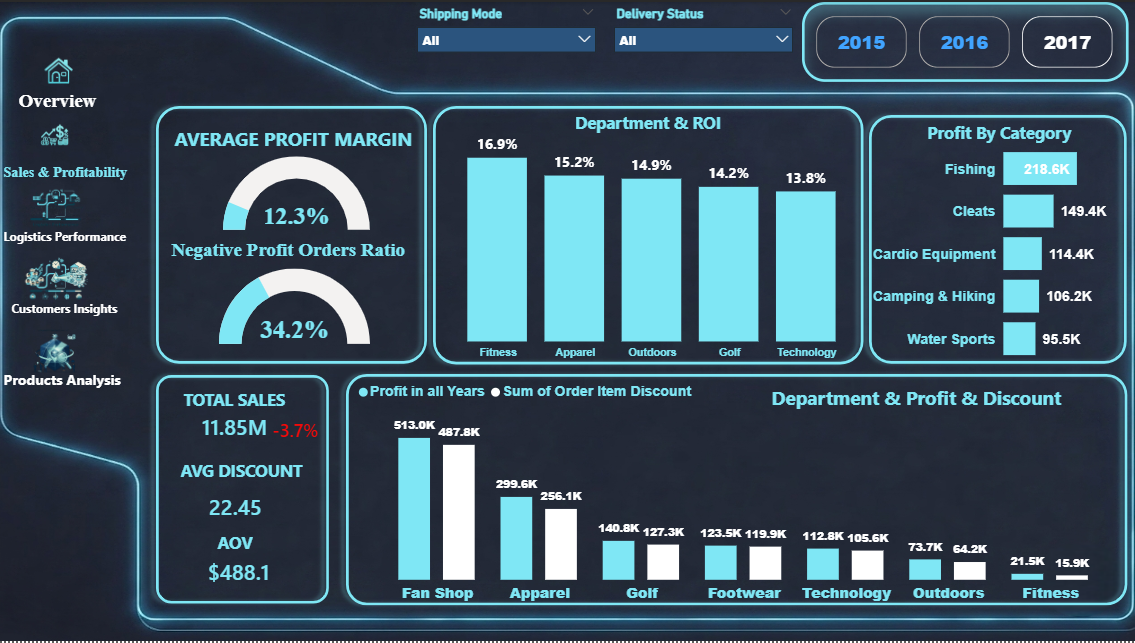

The page's visual inventory and layout, read from the dashboard file:
{"tool":"powerbi","page":{"name":"Sales & Profitability","canvas":[1280,720],"ordinal":1},"visuals":[{"type":"image","box":[0,0,1280,720],"z":0},{"type":"shape","box":[20.5,42.1,138.9,50],"z":1000},{"type":"textbox","box":[17.2,94.6,112.3,41.5],"z":1000,"group":"g2"},{"type":"shape","box":[168.4,108.3,323.3,308.3],"z":2000,"group":"g4"},{"type":"shape","box":[971.7,118.3,308.3,298.3],"z":2000},{"type":"textbox","box":[0,178.5,173.3,43.3],"z":2000,"group":"g6"},{"type":"shape","box":[480,107.7,503.1,309.2],"z":3000},{"type":"textbox","box":[0,250.2,155.6,33.3],"z":3000,"group":"g7"},{"type":"textbox","box":[984.6,129.2,284.6,41.5],"z":4000},{"type":"gauge","fields":{"Y":["NewOrderItem.Loss Order Profit Ratio"]},"box":[183.6,295,298.4,95.1],"z":5000,"group":"g4"},{"type":"textbox","box":[9,331.1,144.4,34.4],"z":5000,"group":"g8"},{"type":"group","id":"g1","title":"Group 4","box":[382,409.8,898.4,278.7],"z":5000},{"type":"image","box":[20.3,43.8,93.8,66.2],"z":5001,"group":"g2"},{"type":"clusteredBarChart","fields":{"Category":["Dim_Category.Category Name"],"Y":["NewOrderItem.Profit in all Years"]},"box":[983.3,141.7,288.9,276.4],"z":6000},{"type":"gauge","fields":{"Y":["Avg(NewOrderItem.Order Item Profit Ratio)"]},"box":[186.5,169.1,298.4,92.7],"z":7000,"group":"g4"},{"type":"textbox","box":[0,409.2,144.4,32.2],"z":7000,"group":"g9"},{"type":"clusteredColumnChart","fields":{"Category":["Dim_Department.Department Name"],"Y":["NewOrderItem.Profit in all Years","Sum(NewOrderItem.Order Item Discount)"]},"box":[398.3,418.3,881.7,270],"z":7000},{"type":"group","id":"g2","title":"Group 1","box":[17.2,43.8,112.3,92.3],"z":8000,"group":"g5"},{"type":"clusteredColumnChart","fields":{"Category":["Dim_Department.Department Name"],"Y":["NewOrderItem.ROI1"]},"box":[487.7,123.1,496.9,287.7],"z":8000},{"type":"textbox","box":[152.5,262.3,347.5,45.9],"z":8000,"group":"g4"},{"type":"image","box":[14.4,120.7,95.6,64],"z":9000,"group":"g6"},{"type":"shape","box":[167.4,411.6,212.8,275.5],"z":9000},{"type":"advancedSlicerVisual","fields":{"Values":["Date Table.Year"]},"box":[905,0,368.3,90],"z":10000},{"type":"image","box":[16.8,278.9,94.4,64.4],"z":11000,"group":"g8"},{"type":"group","id":"g3","title":"Group 2","box":[186.6,430.7,211,256.3],"z":11000},{"type":"textbox","box":[587.7,118.6,286,41.9],"z":12000},{"type":"image","box":[14.4,360.3,95.6,65.6],"z":13000,"group":"g9"},{"type":"shape","box":[382,409.8,898.4,278.7],"z":13000,"group":"g1"},{"type":"textbox","box":[831.8,425.5,404.6,41.9],"z":13000},{"type":"group","id":"g4","title":"Group 9","box":[152.5,108.3,347.5,308.3],"z":14000},{"type":"slicer","fields":{"Values":["Dim_Shipping.Delivery Status"]},"box":[682.7,0,222.4,90.5],"z":15000},{"type":"textbox","box":[183.4,134.6,298.4,44.7],"z":15000,"group":"g4"},{"type":"group","id":"g5","title":"Group 8","box":[0,43.8,173.3,397.6],"z":16000},{"type":"image","box":[16.7,205.8,94.4,50],"z":16000,"group":"g7"},{"type":"pageNavigator","box":[0,76.6,144.5,377.3],"z":17000},{"type":"slicer","fields":{"Values":["Dim_Shipping.Shipping Mode"]},"box":[461.4,0,221.6,89.8],"z":18000},{"type":"cardVisual","fields":{"Data":["NewOrderItem.Sales in this year"]},"box":[186.6,439.5,157.1,75.1],"z":18000,"group":"g3"},{"type":"group","id":"g6","title":"Group 3","box":[0,120.7,173.3,101.1],"z":20000,"group":"g5"},{"type":"cardVisual","fields":{"Data":["Avg(NewOrderItem.Order Item Discount)"]},"box":[194.6,532.4,143.2,70.7],"z":20000,"group":"g3"},{"type":"group","id":"g7","title":"Group 5","box":[0,205.8,155.6,77.8],"z":21000,"group":"g5"},{"type":"cardVisual","fields":{"Data":["NewOrderItem.AOV1"]},"box":[190.6,594.2,157.1,92.8],"z":21000,"group":"g3"},{"type":"group","id":"g8","title":"Group 6","box":[9,278.9,144.4,86.7],"z":22000,"group":"g5"},{"type":"textbox","box":[198.5,510.3,155.1,44.2],"z":22000,"group":"g3"},{"type":"group","id":"g9","title":"Group 7","box":[0,360.3,144.4,81.1],"z":23000,"group":"g5"},{"type":"textbox","box":[222.4,592,85.5,42],"z":23000,"group":"g3"},{"type":"textbox","box":[202.5,430.7,147.2,46.4],"z":24000,"group":"g3"},{"type":"cardVisual","fields":{"Data":["NewOrderItem.YOY Growth (Sales%)"]},"box":[270.5,446.4,127.1,68.2],"z":27000,"group":"g3"}]}

Visuals, with their boxes in screenshot pixels (x1, y1, x2, y2), scaled from the page's 1280x720 canvas onto the 1135x643 screenshot:
image: bbox=[0, 0, 1134, 642]
shape: bbox=[18, 38, 141, 82]
textbox: bbox=[15, 84, 115, 122]
shape: bbox=[149, 97, 436, 372]
shape: bbox=[862, 106, 1134, 372]
textbox: bbox=[0, 159, 154, 198]
shape: bbox=[426, 96, 872, 372]
textbox: bbox=[0, 223, 138, 253]
textbox: bbox=[873, 115, 1125, 152]
gauge - NewOrderItem.Loss Order Profit Ratio: bbox=[163, 263, 427, 348]
textbox: bbox=[8, 296, 136, 326]
"Group 4" group: bbox=[339, 366, 1134, 615]
image: bbox=[18, 39, 101, 98]
clusteredBarChart - Dim_Category.Category Name x NewOrderItem.Profit in all Years: bbox=[872, 127, 1128, 373]
gauge - Avg(NewOrderItem.Order Item Profit Ratio): bbox=[165, 151, 430, 234]
textbox: bbox=[0, 365, 128, 394]
clusteredColumnChart - Dim_Department.Department Name x NewOrderItem.Profit in all Years: bbox=[353, 374, 1134, 615]
"Group 1" group: bbox=[15, 39, 115, 122]
clusteredColumnChart - Dim_Department.Department Name x NewOrderItem.ROI1: bbox=[432, 110, 873, 367]
textbox: bbox=[135, 234, 443, 275]
image: bbox=[13, 108, 98, 165]
shape: bbox=[148, 368, 337, 614]
advancedSlicerVisual - Date Table.Year: bbox=[802, 0, 1129, 80]
image: bbox=[15, 249, 99, 307]
"Group 2" group: bbox=[165, 385, 353, 614]
textbox: bbox=[521, 106, 775, 143]
image: bbox=[13, 322, 98, 380]
shape: bbox=[339, 366, 1134, 615]
textbox: bbox=[738, 380, 1096, 417]
"Group 9" group: bbox=[135, 97, 443, 372]
slicer - Dim_Shipping.Delivery Status: bbox=[605, 0, 803, 81]
textbox: bbox=[163, 120, 427, 160]
"Group 8" group: bbox=[0, 39, 154, 394]
image: bbox=[15, 184, 99, 228]
pageNavigator: bbox=[0, 68, 128, 405]
slicer - Dim_Shipping.Shipping Mode: bbox=[409, 0, 606, 80]
cardVisual - NewOrderItem.Sales in this year: bbox=[165, 392, 305, 460]
"Group 3" group: bbox=[0, 108, 154, 198]
cardVisual - Avg(NewOrderItem.Order Item Discount): bbox=[173, 475, 300, 539]
"Group 5" group: bbox=[0, 184, 138, 253]
cardVisual - NewOrderItem.AOV1: bbox=[169, 531, 308, 614]
"Group 6" group: bbox=[8, 249, 136, 327]
textbox: bbox=[176, 456, 314, 495]
"Group 7" group: bbox=[0, 322, 128, 394]
textbox: bbox=[197, 529, 273, 566]
textbox: bbox=[180, 385, 310, 426]
cardVisual - NewOrderItem.YOY Growth (Sales%): bbox=[240, 399, 353, 460]
